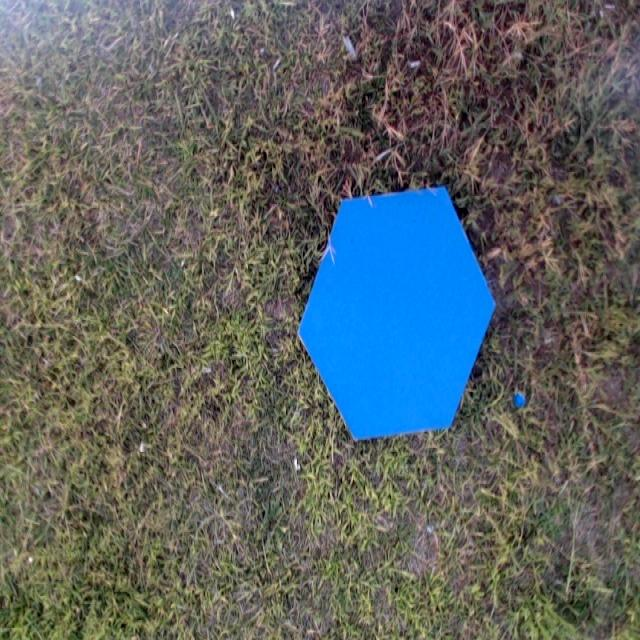blue_hexagon: (296, 184, 498, 443)
